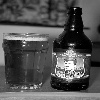beer: (2, 31, 53, 100)
